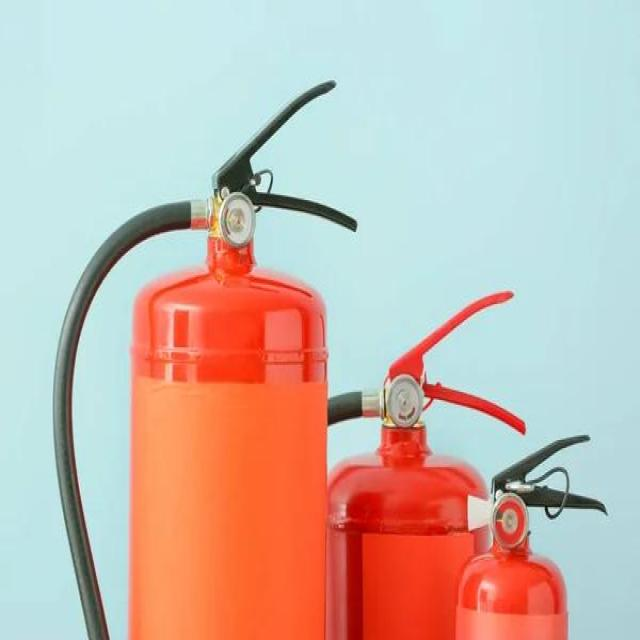fire_extinguisher: (48, 76, 363, 638), (266, 285, 528, 638), (448, 428, 610, 638)
